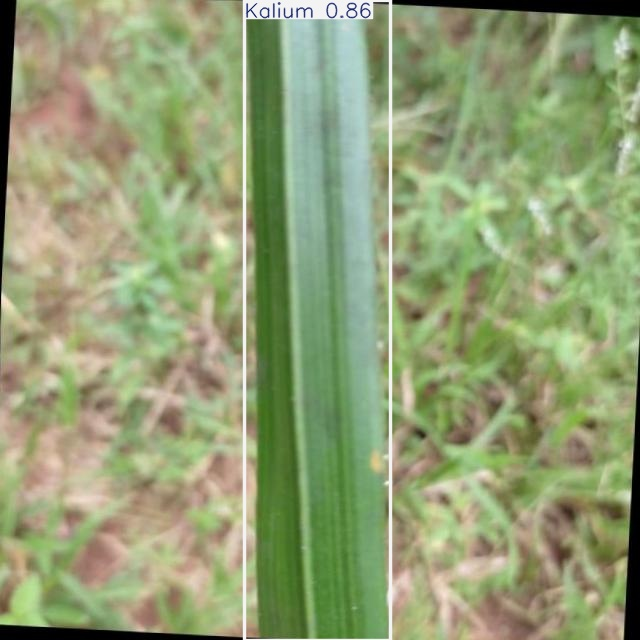Kalium: (244, 0, 391, 640)
